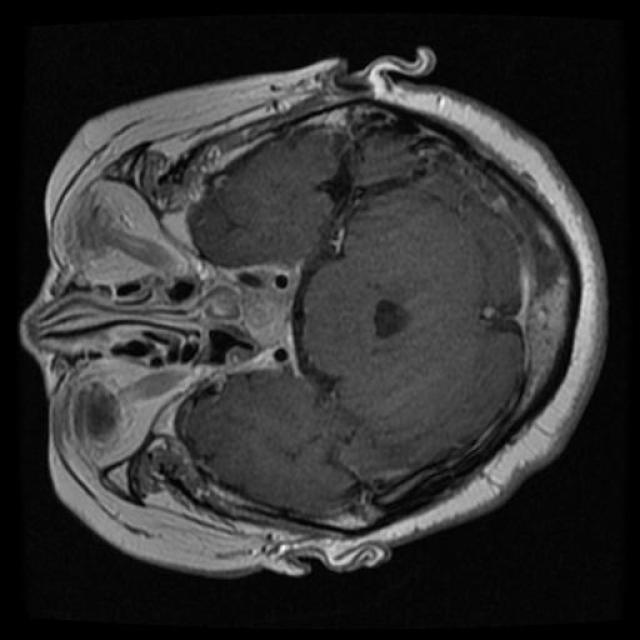Pituitary: (234, 258, 333, 388)
